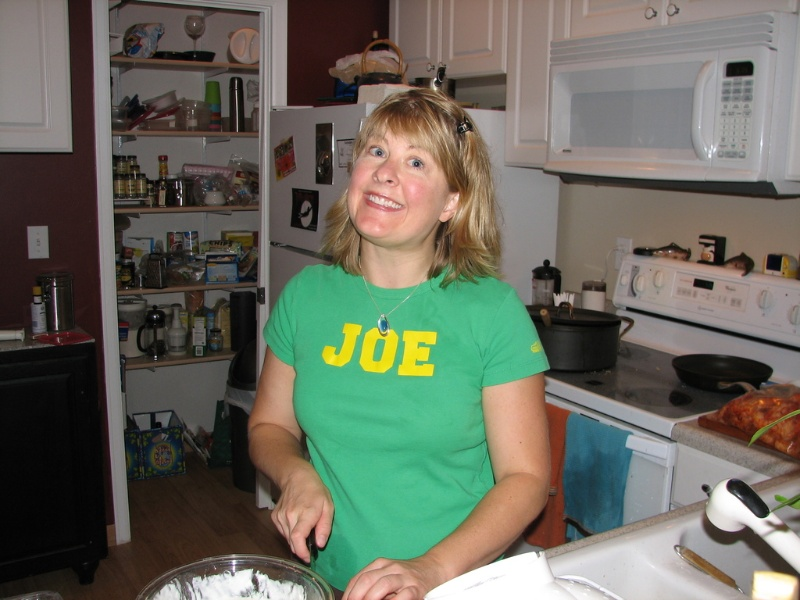oven: (544, 379, 673, 534)
refrigerator: (256, 101, 351, 270)
